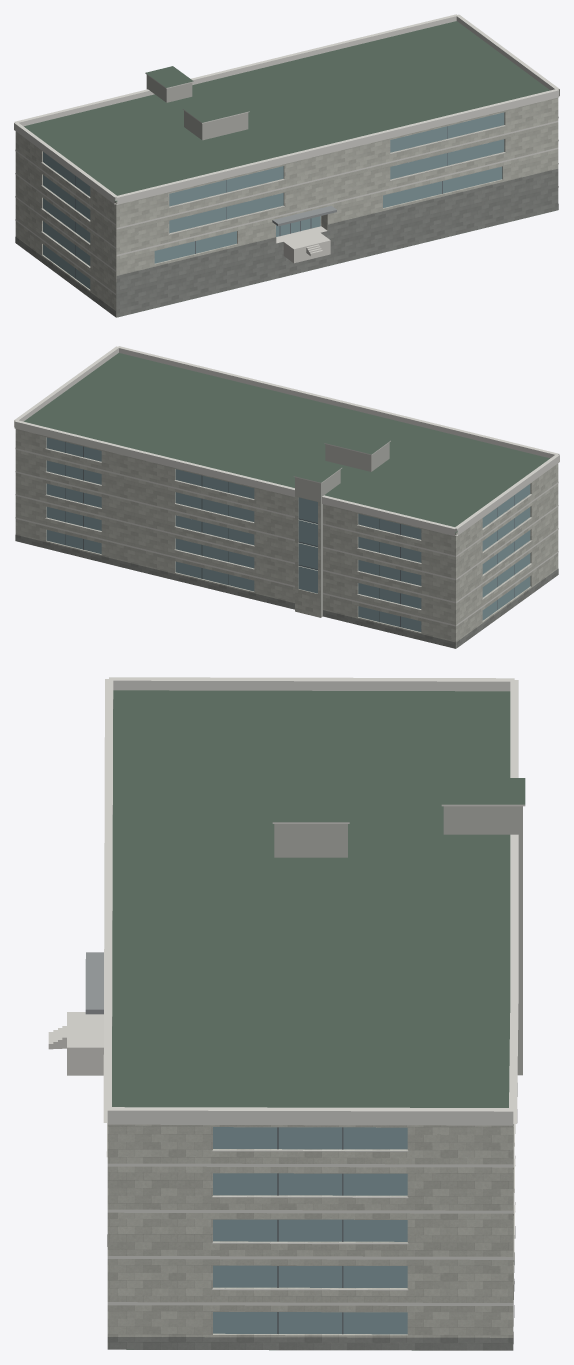
3 renders of one model, top to bottom at view 1: azimuth 30°, elevation 25°; view 2: azimuth 150°, elevation 25°; view 3: azimuth 270°, elevation 25°, orthographic. The views are drawn at different scales.
Visible parts, largest first — view 1: b203__roof, b203__wall, b203__base, b203__trim, b203__glass, b203__wall2, b203__entranceStair, b203__canopy; view 2: b203__wall, b203__roof, b203__glass, b203__trim, b203__base, b203__wall2, b203__frame; view 3: b203__roof, b203__wall, b203__trim, b203__glass, b203__wall2, b203__base, b203__entranceStair, b203__canopy.
Part boxes in pixels (left/top/right/bottom): b203__roof: left=24, top=21, right=555, bottom=317; b203__wall: left=15, top=97, right=558, bottom=316; b203__base: left=15, top=168, right=558, bottom=317; b203__trim: left=14, top=14, right=559, bottom=294; b203__glass: left=43, top=112, right=504, bottom=289; b203__wall2: left=146, top=75, right=248, bottom=140; b203__entranceStair: left=276, top=226, right=330, bottom=263; b203__canopy: left=272, top=205, right=336, bottom=226; b203__wall: left=15, top=429, right=558, bottom=648; b203__roof: left=24, top=353, right=549, bottom=533; b203__glass: left=46, top=437, right=530, bottom=631; b203__trim: left=14, top=346, right=559, bottom=626; b203__base: left=15, top=534, right=558, bottom=648; b203__wall2: left=295, top=442, right=389, bottom=617; b203__frame: left=65, top=442, right=514, bottom=627; b203__roof: left=112, top=690, right=525, bottom=1350; b203__wall: left=107, top=1124, right=514, bottom=1337; b203__trim: left=103, top=677, right=525, bottom=1305; b203__glass: left=213, top=1127, right=407, bottom=1334; b203__wall2: left=274, top=806, right=522, bottom=1075; b203__base: left=107, top=1226, right=515, bottom=1350; b203__entranceStair: left=48, top=1012, right=103, bottom=1075; b203__canopy: left=85, top=952, right=103, bottom=1014.
Bounding box in the file's own units: 72.57 × 21.17 × 33.65.
Materials: 10 (2 with a texture image).
